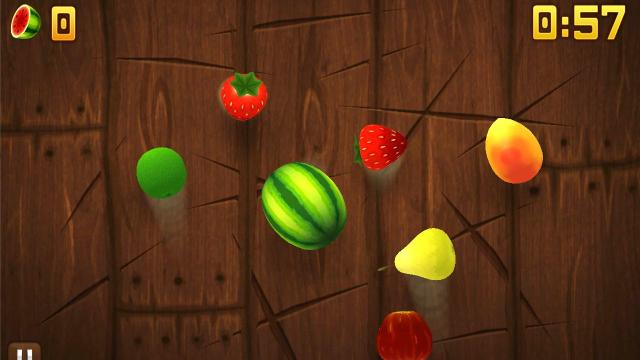fruit: (261, 162, 347, 250), (484, 118, 544, 184), (394, 228, 456, 280), (135, 146, 187, 200), (377, 310, 433, 360), (352, 124, 406, 172), (220, 70, 268, 122)
ignore: (9, 3, 43, 41)
